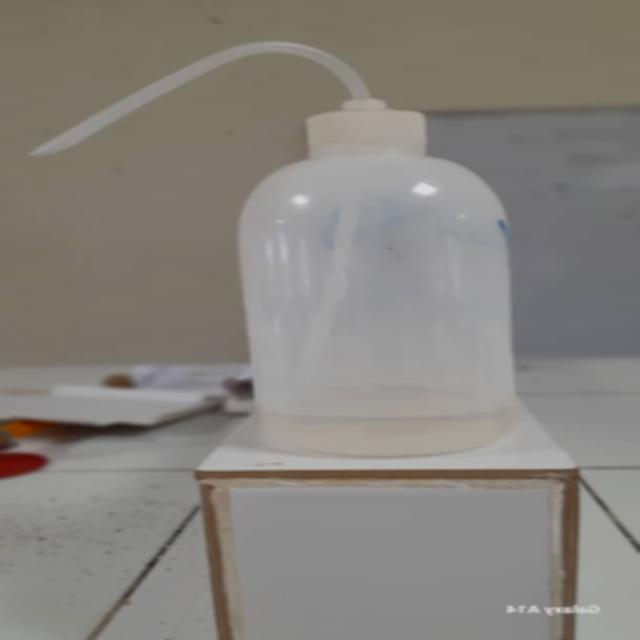Washing Bottle: (34, 27, 533, 454)
